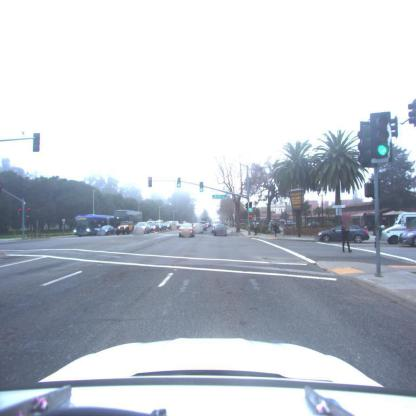bus: (74, 214, 117, 237), (113, 210, 141, 234)
car: (319, 225, 370, 247), (395, 222, 416, 251), (133, 222, 150, 235), (212, 223, 228, 236), (179, 223, 194, 236), (145, 221, 159, 233), (194, 222, 207, 234), (169, 221, 180, 231)
truck: (382, 212, 416, 246)
